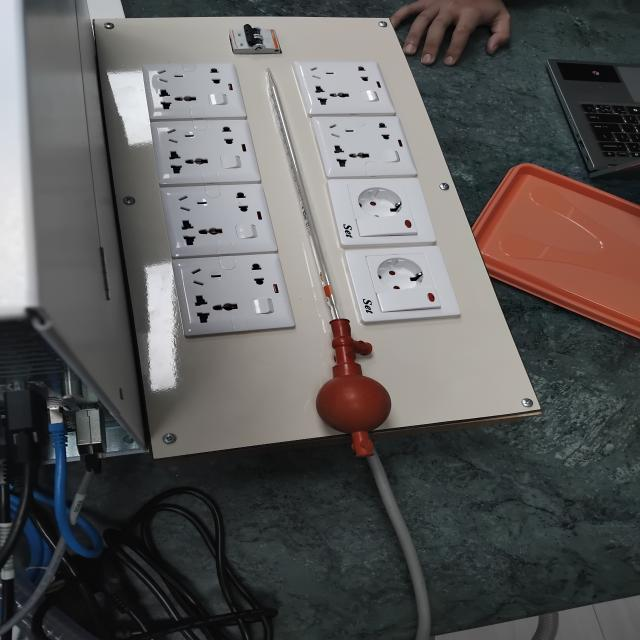Volumetric_Pipet: (240, 44, 414, 476)
